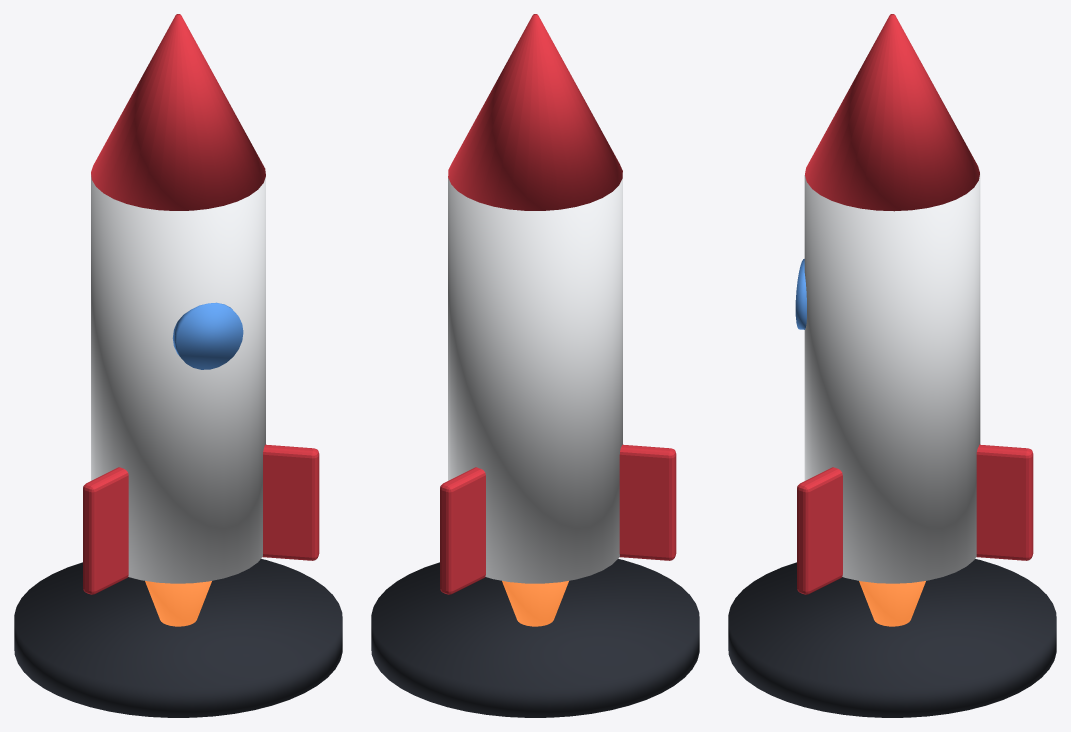
Rendered from decor_rocket.glb.
The picture shows the model from 3 angles, left to right: view 1: azimuth 30°, elevation 25°; view 2: azimuth 150°, elevation 25°; view 3: azimuth 270°, elevation 25°; orthographic projection.
Parts seen in each view (by area): view 1: decor_rocket; view 2: decor_rocket; view 3: decor_rocket.
Part boxes in pixels (left/top/right/bottom): decor_rocket: left=14, top=14, right=342, bottom=717; decor_rocket: left=371, top=14, right=699, bottom=717; decor_rocket: left=728, top=14, right=1056, bottom=717.
Bounding box in the file's own units: 0.0599 × 0.1275 × 0.0599.
